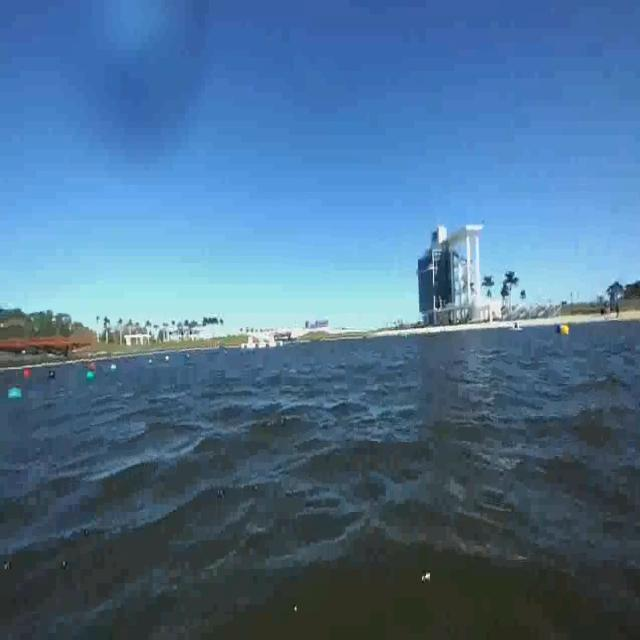black-buoy: (48, 369, 56, 382)
green-buoy: (8, 388, 22, 401), (88, 368, 96, 382)
yellow-buoy: (562, 323, 570, 336)
